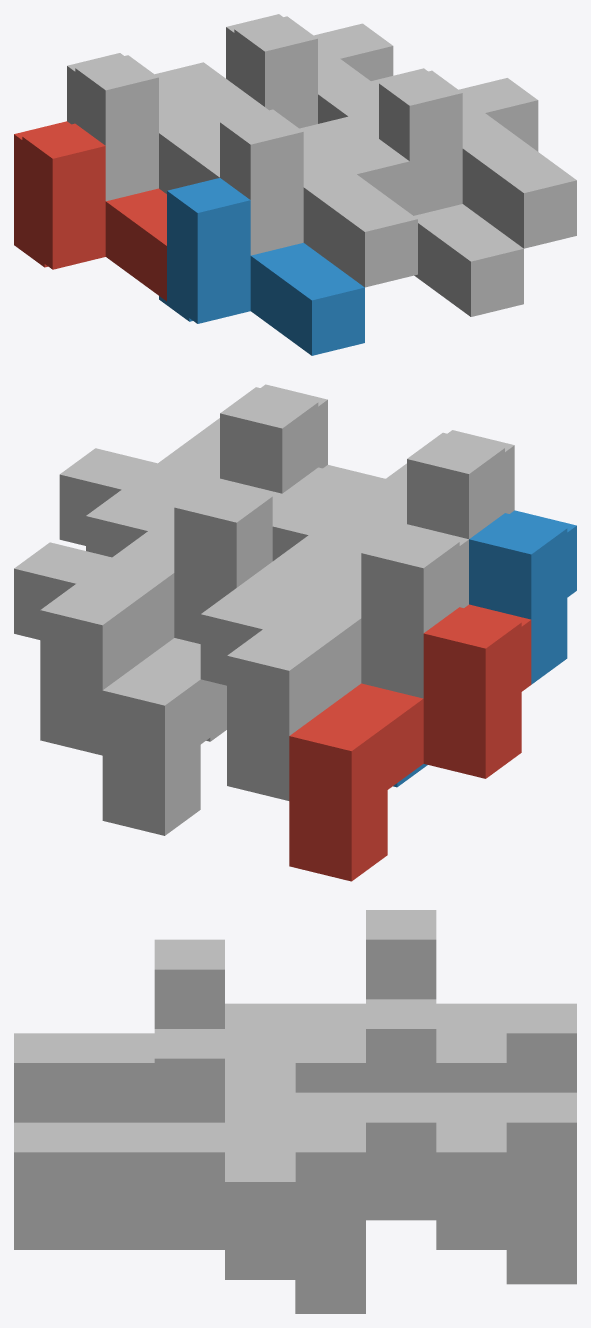
File: tiling.obj
3 renders of one model, top to bottom at view 1: azimuth 30°, elevation 25°; view 2: azimuth 150°, elevation 25°; view 3: azimuth 270°, elevation 25°, orthographic. The views are drawn at different scales.
Visible parts, largest first — view 1: copy_1_domain_8, copy_1_domain_4, copy_1_domain_2, copy_1_domain_1, copy_1_domain_3, copy_1_domain_7, copy_1_domain_6, copy_1_domain_5; view 2: copy_1_domain_3, copy_1_domain_1, copy_1_domain_7, copy_1_domain_8, copy_1_domain_5, copy_1_domain_4, copy_1_domain_2, copy_1_domain_6; view 3: copy_1_domain_8, copy_1_domain_7, copy_1_domain_4, copy_1_domain_3, copy_1_domain_6, copy_1_domain_5.
Boxes of the visible parts, box(x1,y1,x2,y2) form: copy_1_domain_8: box(371, 68, 576, 248); copy_1_domain_4: box(212, 107, 417, 287); copy_1_domain_2: box(159, 178, 364, 355); copy_1_domain_1: box(14, 121, 166, 301); copy_1_domain_3: box(67, 53, 233, 201); copy_1_domain_7: box(226, 14, 393, 138); copy_1_domain_6: box(326, 139, 523, 316); copy_1_domain_5: box(181, 85, 264, 119); copy_1_domain_3: box(200, 524, 468, 800); copy_1_domain_1: box(289, 604, 531, 881); copy_1_domain_7: box(14, 478, 281, 755); copy_1_domain_8: box(59, 384, 327, 557); copy_1_domain_5: box(102, 561, 334, 835); copy_1_domain_4: box(272, 430, 514, 576); copy_1_domain_2: box(393, 510, 576, 787); copy_1_domain_6: box(206, 465, 385, 741); copy_1_domain_8: box(14, 1029, 365, 1279); copy_1_domain_7: box(225, 999, 576, 1249); copy_1_domain_4: box(14, 939, 365, 1122); copy_1_domain_3: box(225, 910, 576, 1092); copy_1_domain_6: box(14, 1216, 365, 1313); copy_1_domain_5: box(366, 1186, 576, 1284).
Size of the model in its own units: 8 by 4 by 8.
